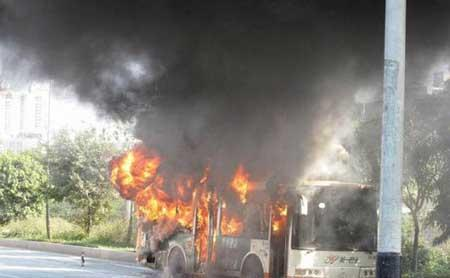fire: (106, 158, 292, 263)
smoke: (22, 7, 437, 151)
